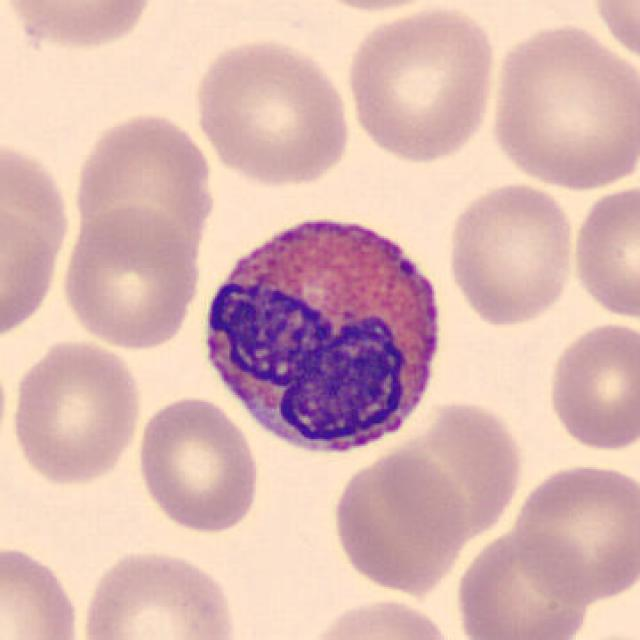Eosinophil: (190, 196, 455, 467)
RBC: (486, 19, 638, 194), (342, 2, 499, 165), (188, 35, 354, 189), (69, 106, 219, 266), (57, 201, 206, 353), (327, 448, 469, 598), (7, 335, 144, 488), (442, 178, 578, 330), (508, 458, 638, 606), (383, 405, 520, 545), (132, 393, 263, 536), (450, 525, 596, 640), (76, 545, 242, 640), (542, 317, 638, 455), (0, 138, 70, 283), (569, 182, 638, 322), (0, 199, 62, 346), (0, 539, 85, 640), (0, 0, 160, 53), (300, 594, 460, 640), (585, 0, 638, 67), (292, 0, 460, 14)
